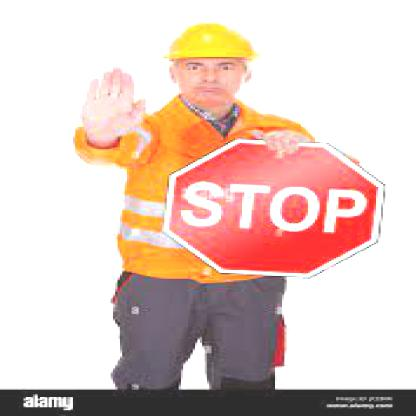Stop: (78, 57, 155, 142)
